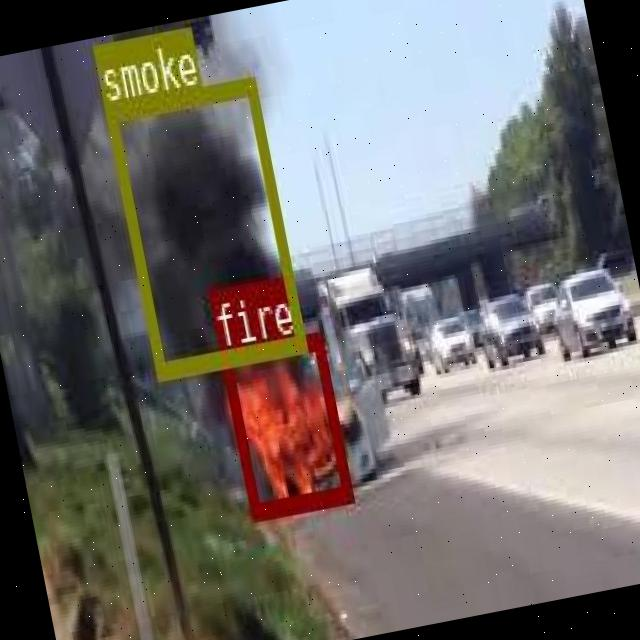fire: (218, 329, 352, 517)
smoke: (103, 74, 304, 376)
